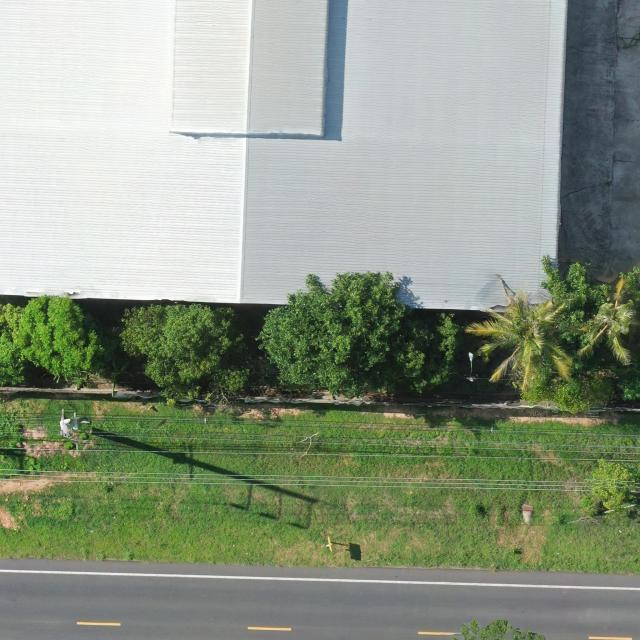Tree: (256, 270, 403, 399), (463, 273, 574, 388), (119, 302, 238, 389), (16, 294, 106, 378), (538, 254, 612, 346), (390, 307, 461, 395), (574, 276, 635, 366), (587, 457, 634, 513), (0, 303, 29, 386)
